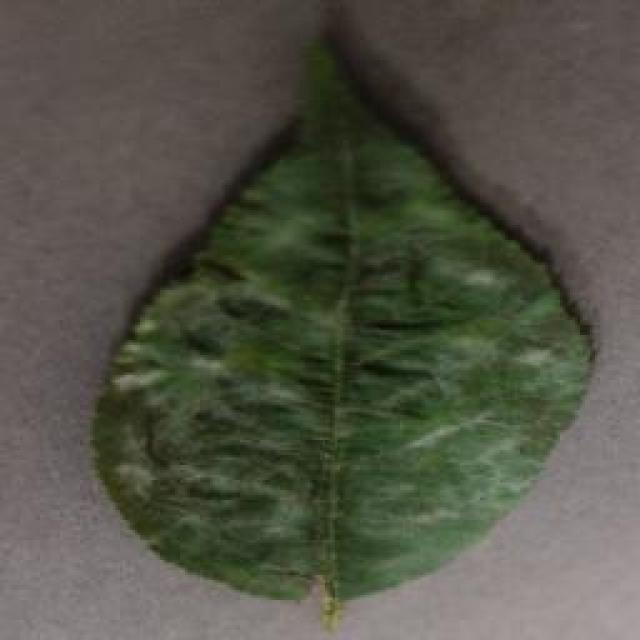Cherry___Powdery_mildew: (72, 18, 608, 638)
